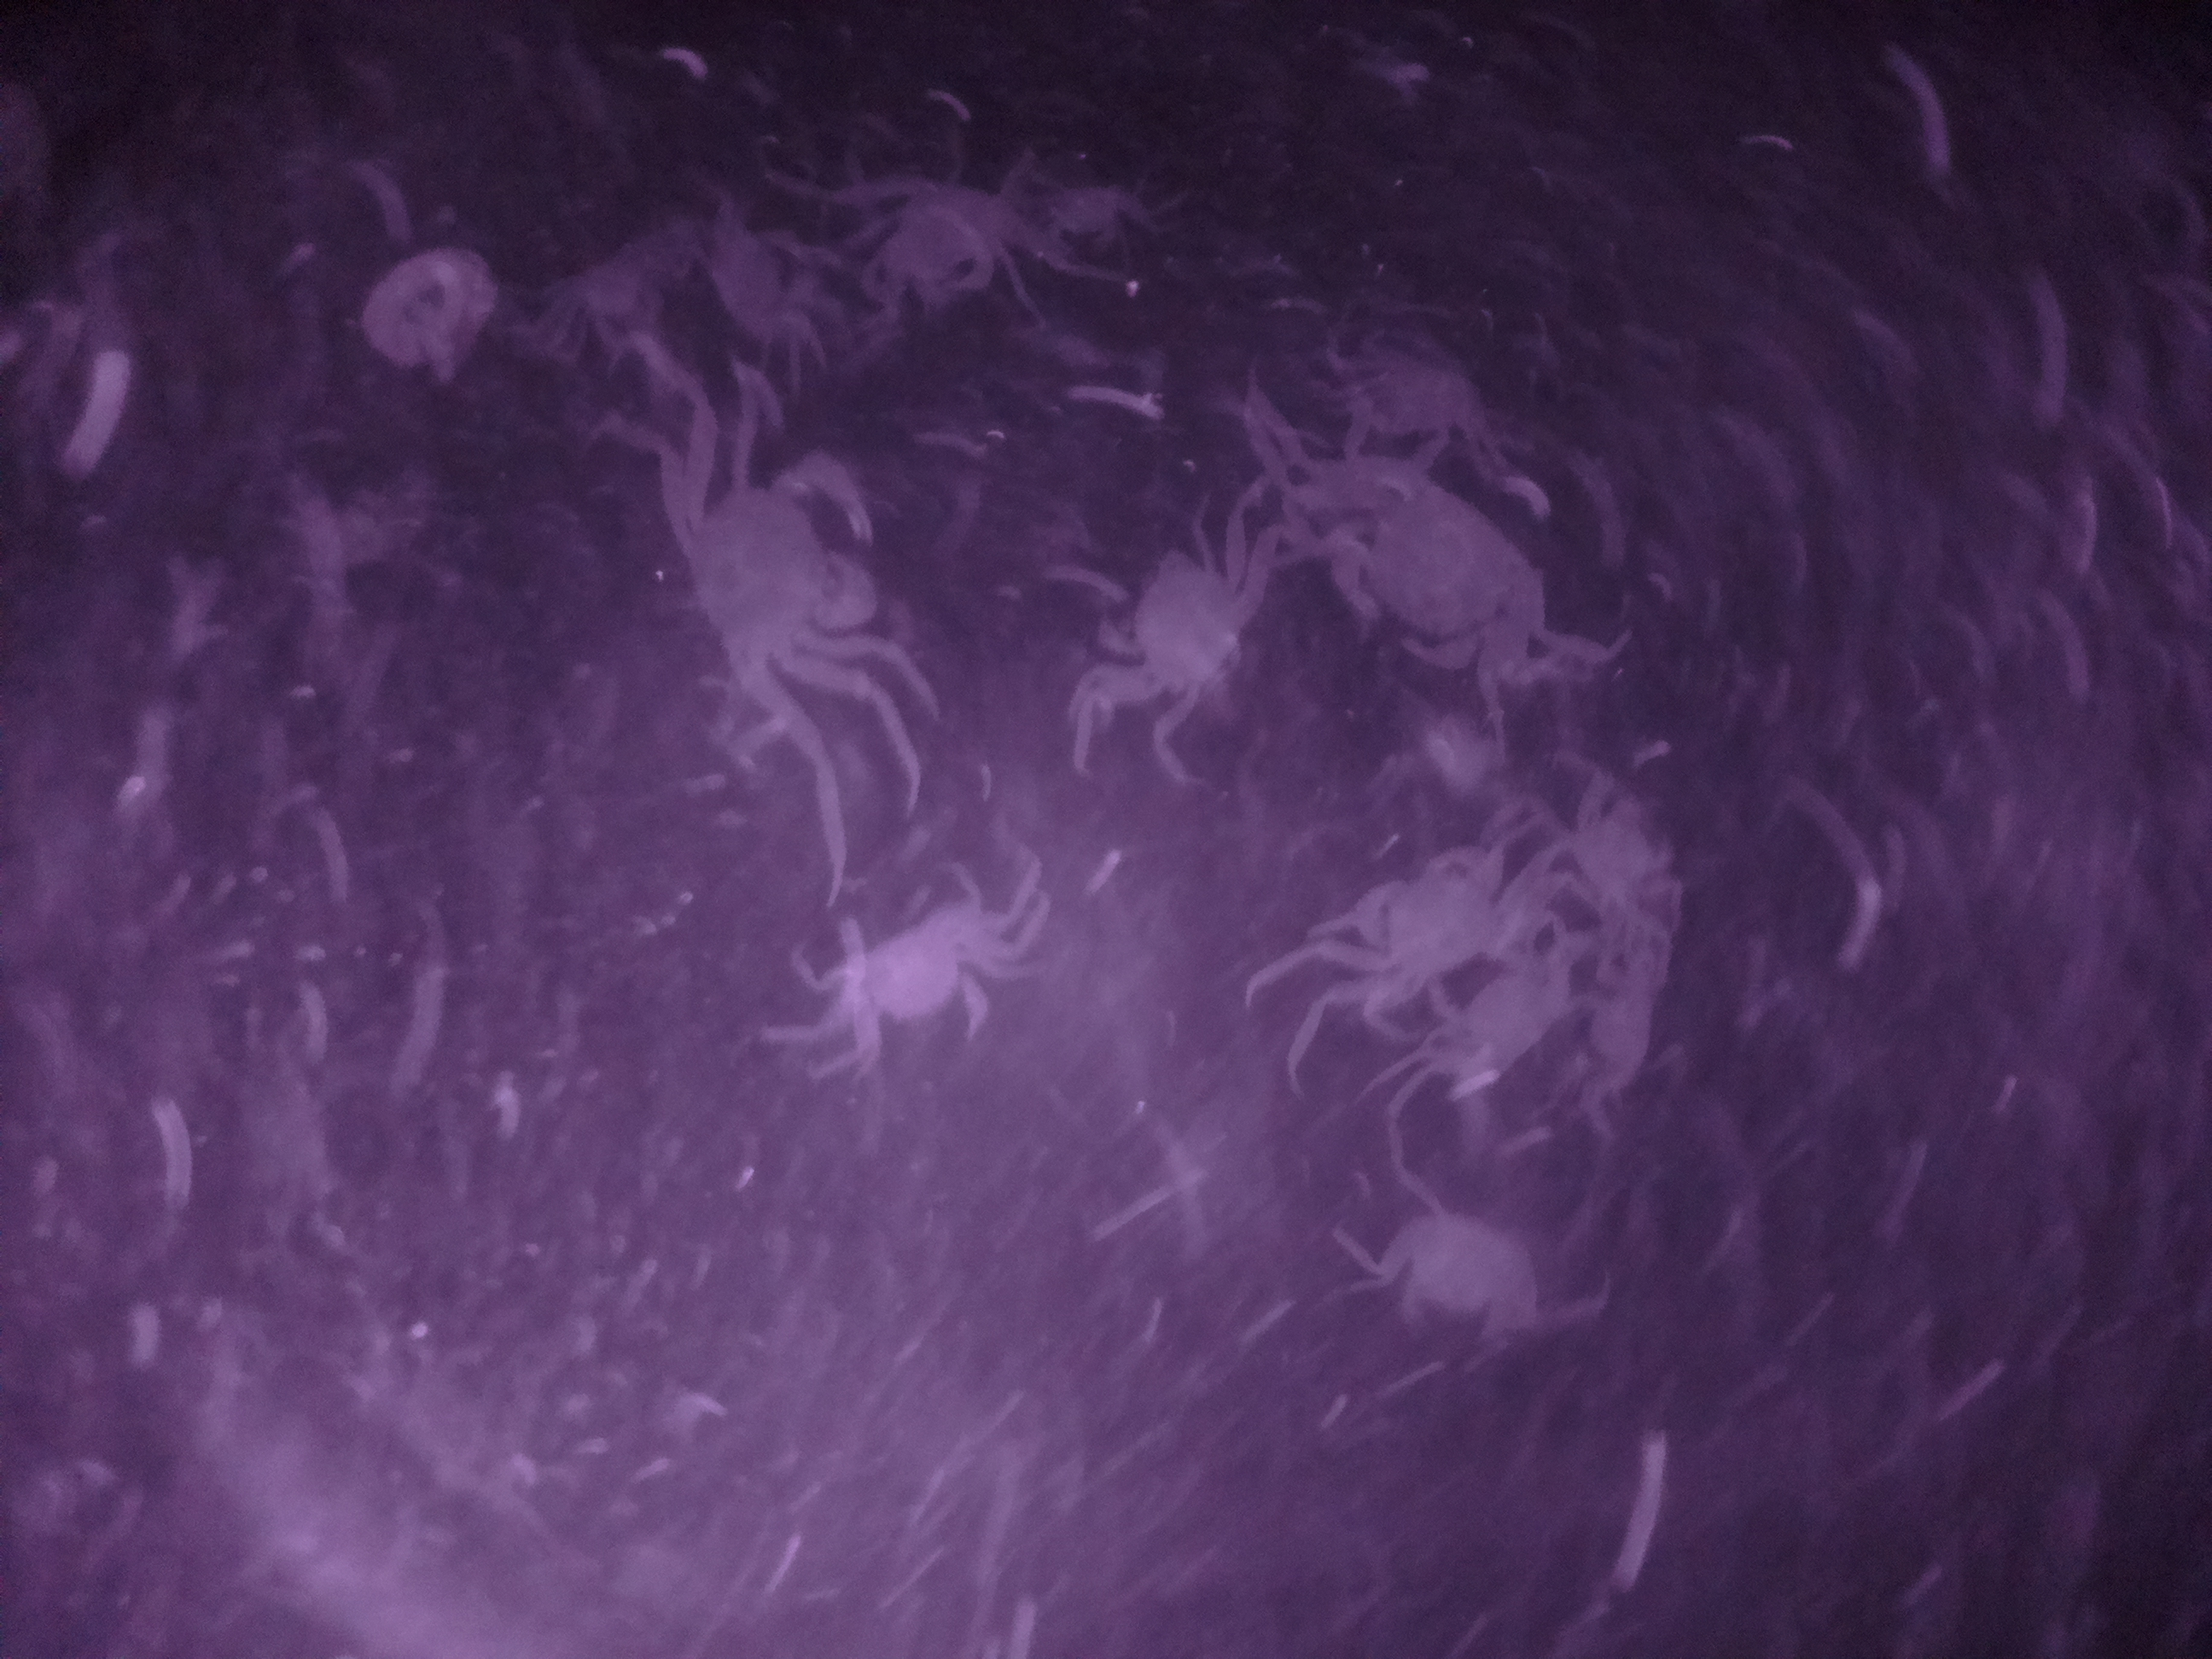Crab: (1306, 453, 1566, 680), (658, 443, 885, 694), (799, 877, 1000, 1073), (1315, 826, 1522, 1007), (1090, 518, 1258, 721)
